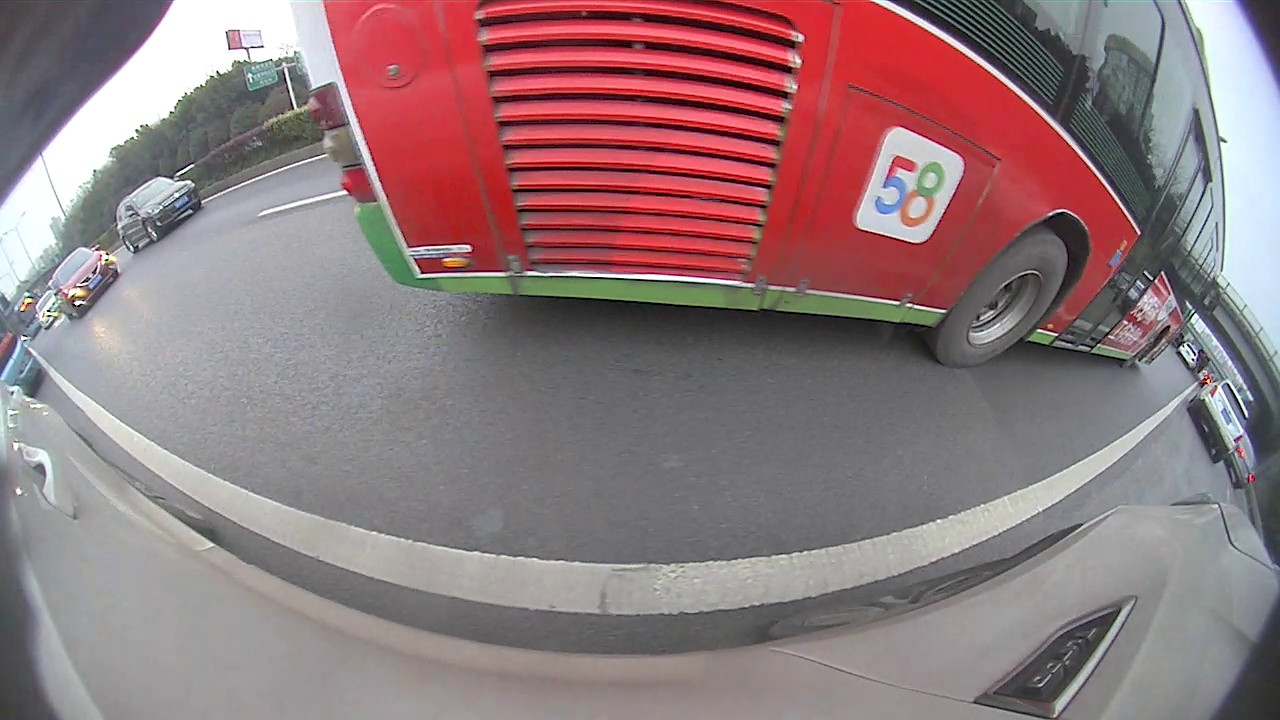bus: (291, 3, 1222, 370)
car: (116, 176, 202, 254), (1185, 380, 1250, 462), (53, 245, 120, 319)
front: (144, 221, 161, 243)
rear: (934, 234, 1069, 370)
